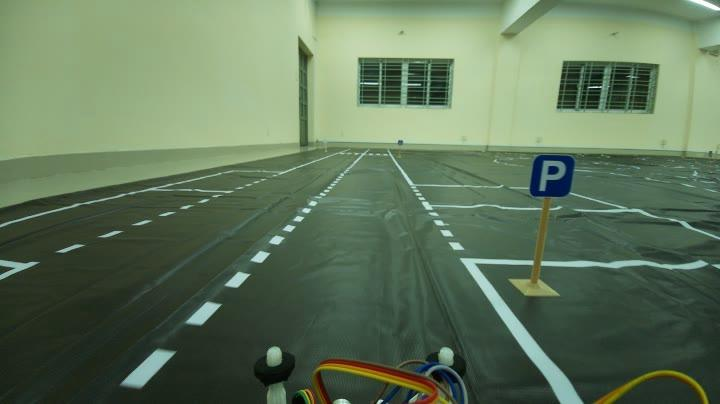parking: (528, 151, 578, 203)
